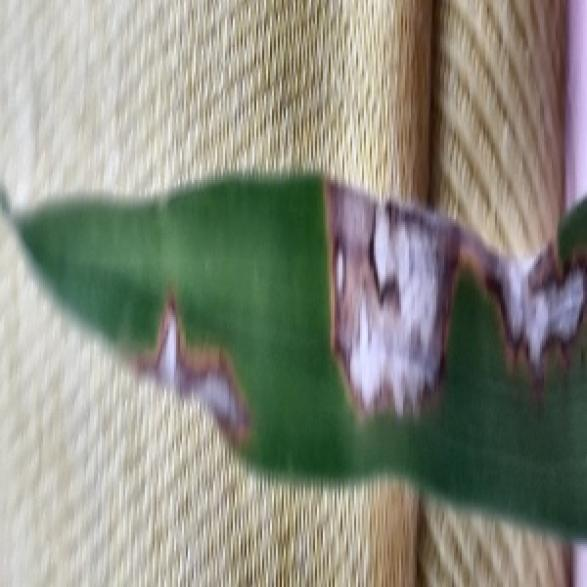Leaf_smut: (317, 166, 585, 427), (133, 284, 256, 456)
